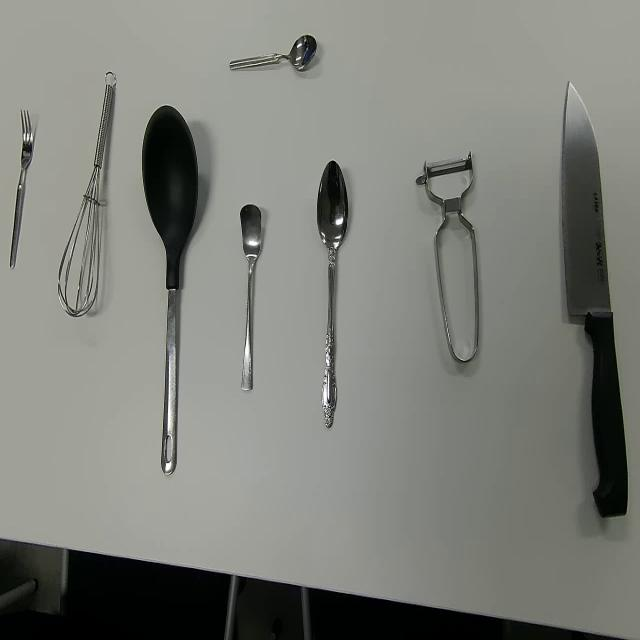Desert-Spoon: (316, 159, 350, 429)
Dinner-Fork: (8, 106, 34, 268)
Kitchen-Knife: (560, 77, 629, 520)
Peeler: (416, 150, 480, 364)
Serving-Spoon: (141, 103, 200, 478)
Tea-Spoon: (240, 202, 262, 393), (228, 33, 318, 74)
Whisk: (56, 70, 116, 318)
